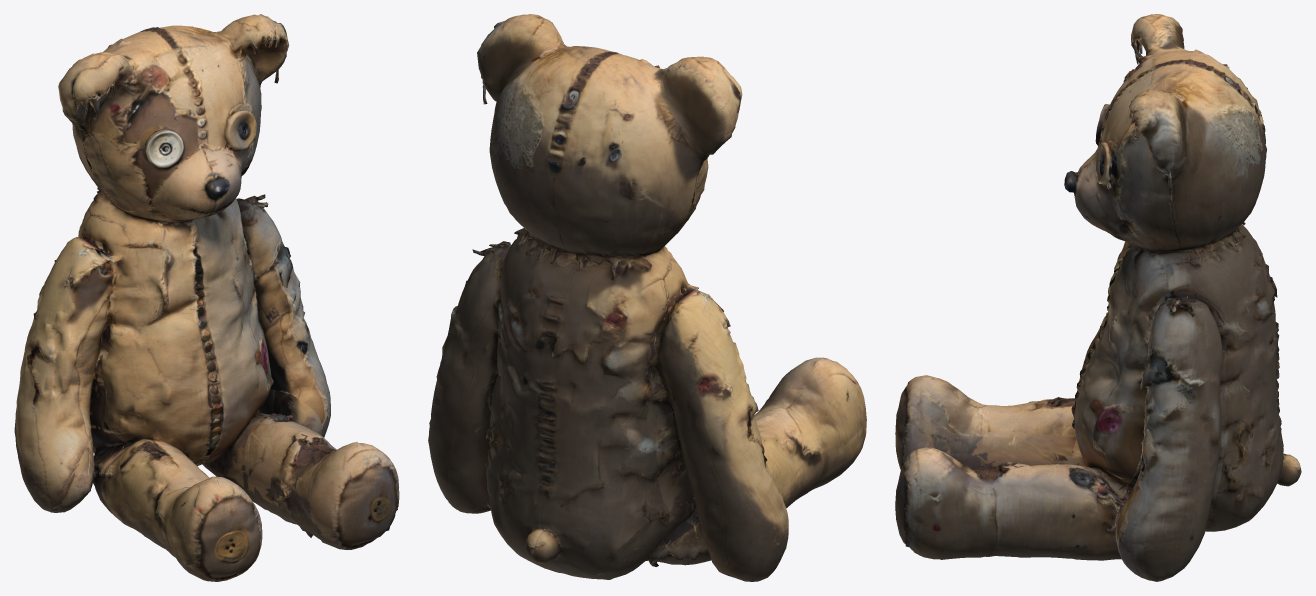
File: Stitched_Memories_1122161936_texture.glb
The picture shows the model from 3 angles, left to right: view 1: azimuth 30°, elevation 25°; view 2: azimuth 150°, elevation 25°; view 3: azimuth 270°, elevation 25°; orthographic projection. The views are drawn at different scales.
Bounding box in the file's own units: 1.33 × 1.91 × 1.49.
1 material, 1 textured.
